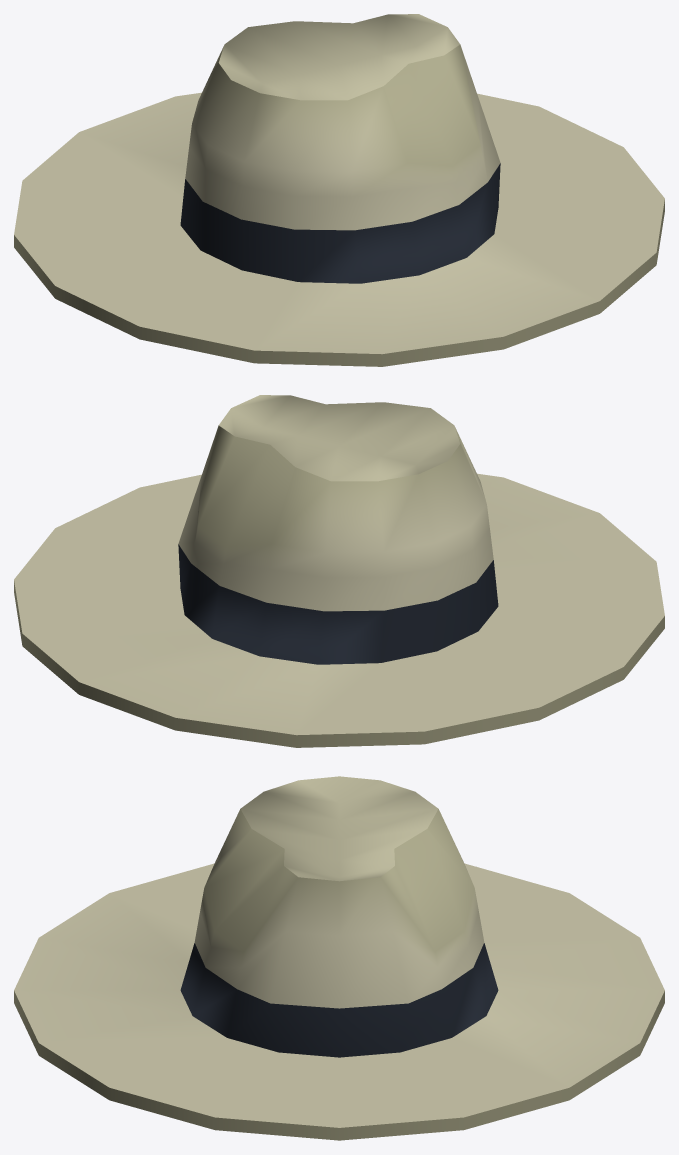
File: human-clothing-panama-hat_v1.glb
3 renders of one model, top to bottom at view 1: azimuth 30°, elevation 25°; view 2: azimuth 150°, elevation 25°; view 3: azimuth 270°, elevation 25°, orthographic.
Parts seen in each view (by area): view 1: Panama Hat; view 2: Panama Hat; view 3: Panama Hat.
Boxes of the visible parts, x1,y1,x2,y2 form: Panama Hat: (14, 14, 664, 366); Panama Hat: (14, 395, 664, 747); Panama Hat: (14, 776, 664, 1140).
Size of the model in its own units: 0.35 by 0.1034 by 0.35.
